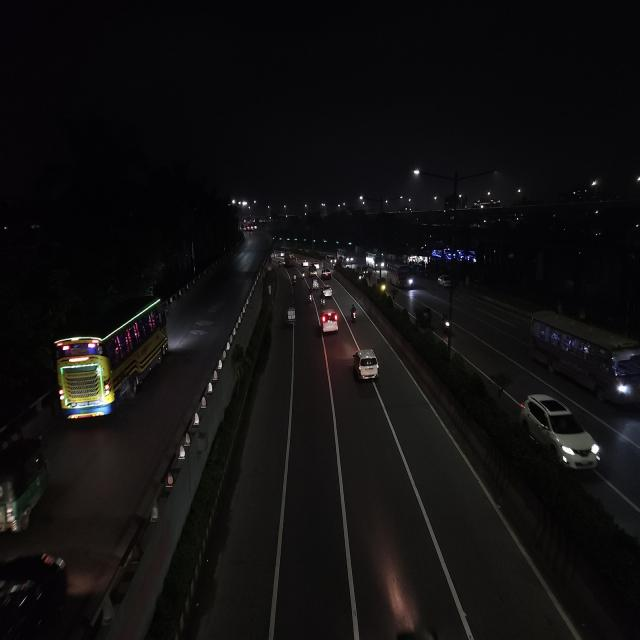bus: (54, 294, 170, 422), (526, 310, 640, 406), (390, 262, 416, 291), (366, 251, 385, 270), (285, 253, 295, 265)
car: (515, 391, 605, 480), (352, 346, 381, 387), (318, 301, 340, 335), (436, 273, 454, 290), (321, 282, 334, 298), (321, 268, 333, 281)
cng: (0, 438, 50, 537), (312, 279, 320, 290), (302, 258, 309, 268)
motorcycle: (440, 311, 454, 336), (349, 303, 359, 324), (306, 290, 314, 307), (290, 273, 298, 288), (300, 270, 306, 279)
pedestrian: (267, 283, 272, 296)
pickup_van: (308, 266, 318, 277)
rickshaw: (285, 304, 297, 326)
